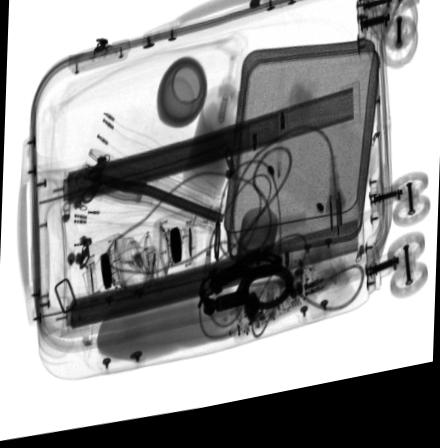HandCuffs: (198, 255, 295, 325)
